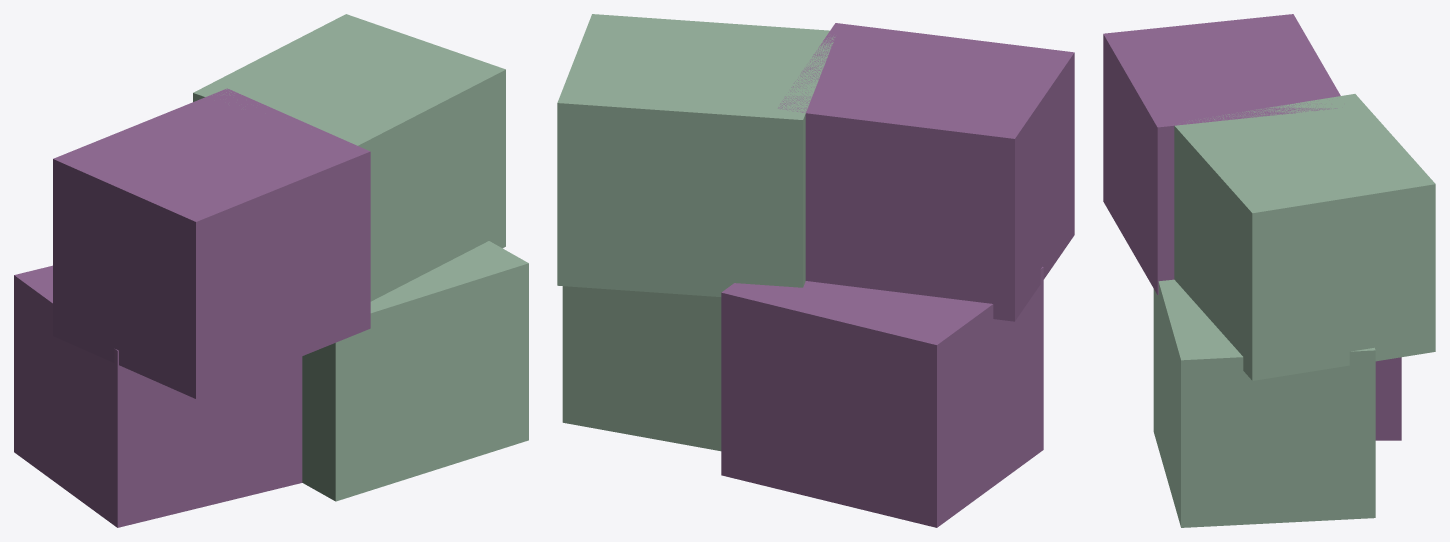
The model's file is traveler_camp.glb.
3 renders of one model, left to right at view 1: azimuth 30°, elevation 25°; view 2: azimuth 150°, elevation 25°; view 3: azimuth 270°, elevation 25°, orthographic. The views are drawn at different scales.
Parts seen in each view (by area): view 1: crate_2, crate_3, crate_1, crate_0; view 2: crate_2, crate_3, crate_0, crate_1; view 3: crate_3, crate_1, crate_2, crate_0.
Part boxes in pixels (<box>): crate_2: <box>53,88,370,398</box>; crate_3: <box>193,14,505,301</box>; crate_1: <box>302,241,528,501</box>; crate_0: <box>14,265,302,527</box>; crate_2: <box>778,23,1074,321</box>; crate_3: <box>557,14,835,296</box>; crate_0: <box>721,267,1043,527</box>; crate_1: <box>562,286,721,451</box>; crate_3: <box>1174,94,1435,380</box>; crate_1: <box>1153,279,1375,527</box>; crate_2: <box>1103,14,1340,294</box>; crate_0: <box>1375,357,1401,440</box>.
Size of what is drawn, in the model's own units: 2.17 by 1.63 by 1.53.
